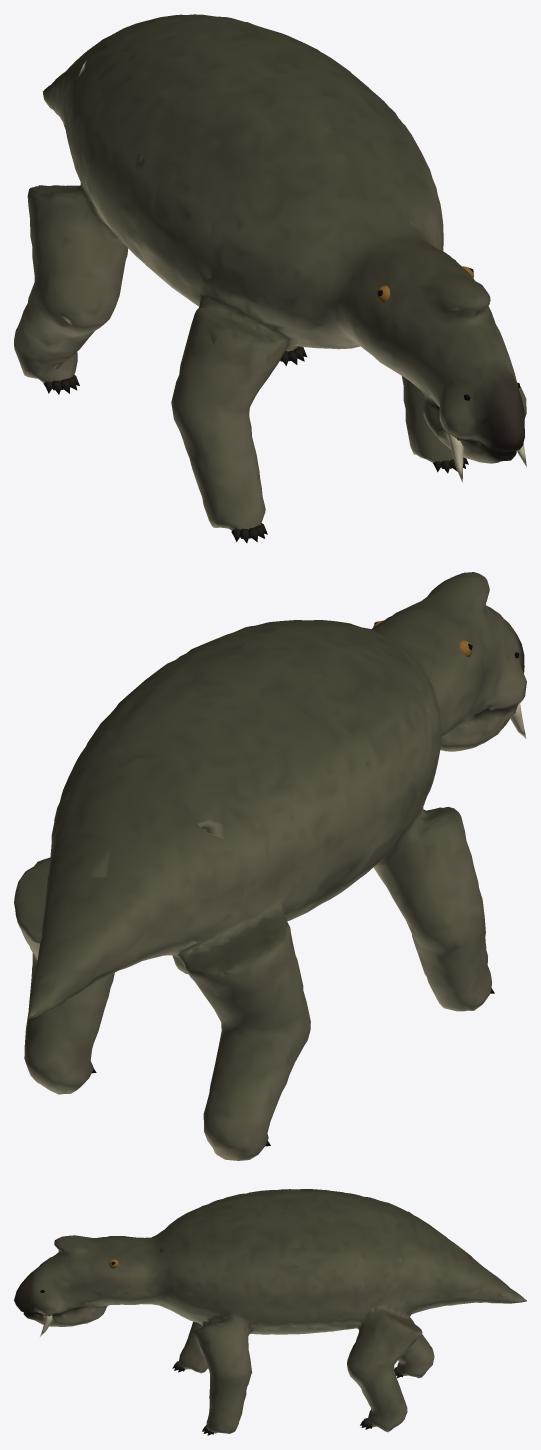
File: Kannemeyeria.fbx
The picture shows the model from 3 angles, top to bottom: view 1: azimuth 30°, elevation 25°; view 2: azimuth 150°, elevation 25°; view 3: azimuth 270°, elevation 25°; orthographic projection. The views are drawn at different scales.
Visible parts, largest first — view 1: Kannemeyeria; view 2: Kannemeyeria; view 3: Kannemeyeria.
Part boxes in pixels (x1,y1,x2,y2): Kannemeyeria: [14, 14, 526, 542]; Kannemeyeria: [14, 572, 526, 1160]; Kannemeyeria: [14, 1189, 526, 1435].
Size of the model in its own units: 0.6116 by 0.7341 by 1.66.
